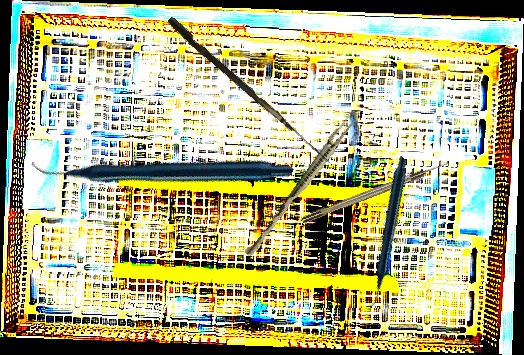Handpiece: (30, 42, 295, 292), (308, 155, 464, 309)
Hook Surgical: (164, 16, 337, 164), (300, 160, 450, 224)
Tissue Forceps: (243, 112, 358, 261)
